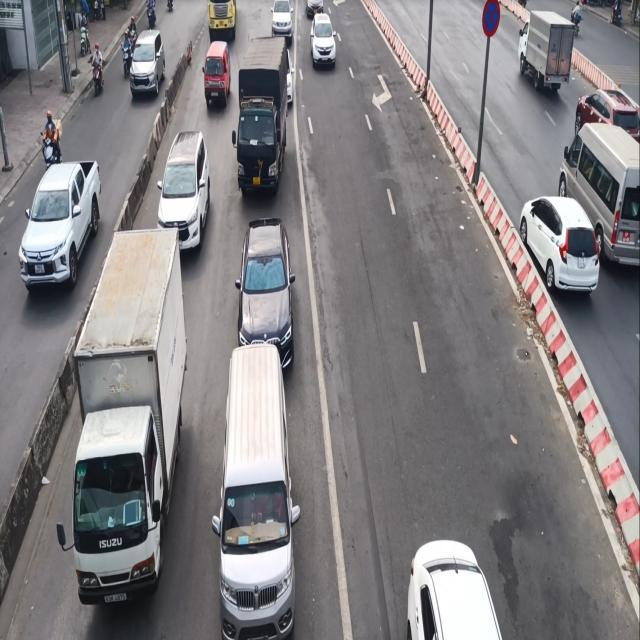car: (210, 342, 300, 639), (17, 159, 101, 290), (405, 539, 504, 639), (234, 216, 296, 370), (517, 195, 601, 294), (155, 130, 210, 252)
truck: (56, 226, 187, 606)
